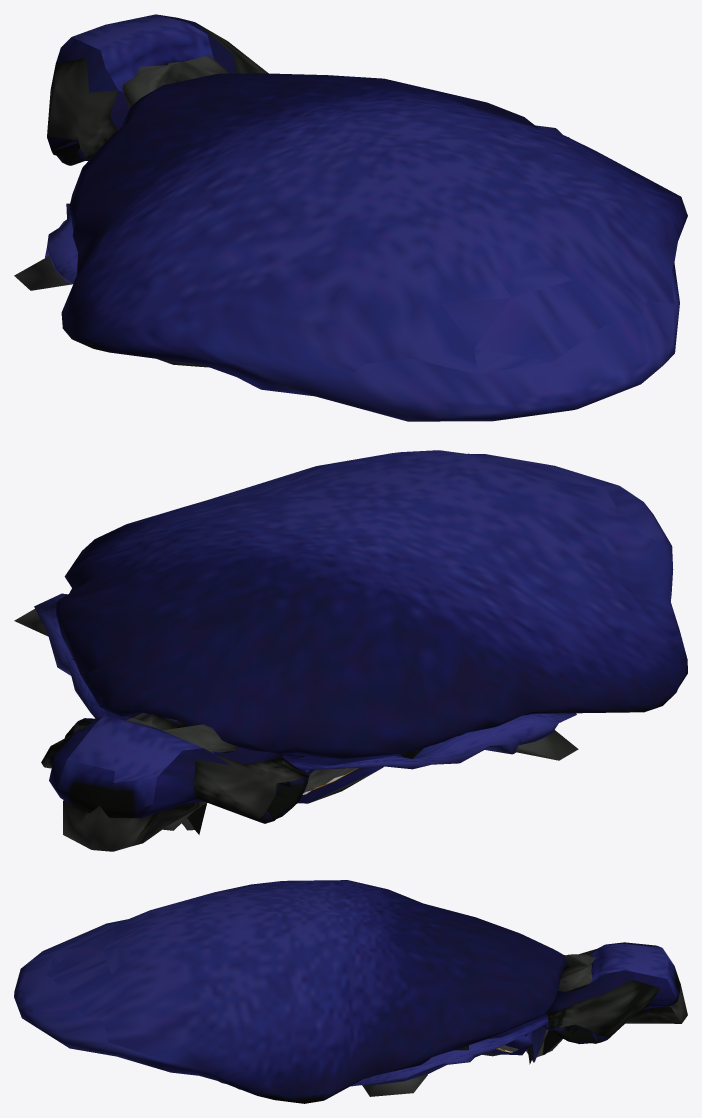
File: npc_hopper_die_000238.obj
3 views of the same model, one above another, from view 1: azimuth 30°, elevation 25°; view 2: azimuth 150°, elevation 25°; view 3: azimuth 270°, elevation 25° (orthographic). The views are drawn at different scales.
Parts seen in each view (by area): view 1: npc_hopper_npc_hopper_mesh; view 2: npc_hopper_npc_hopper_mesh; view 3: npc_hopper_npc_hopper_mesh.
Part boxes in pixels (x1,y1,x2,y2): npc_hopper_npc_hopper_mesh: (14,14,687,421); npc_hopper_npc_hopper_mesh: (14,450,687,851); npc_hopper_npc_hopper_mesh: (14,880,687,1103).
Bounding box in the file's own units: 1.83 × 0.5897 × 2.52.
